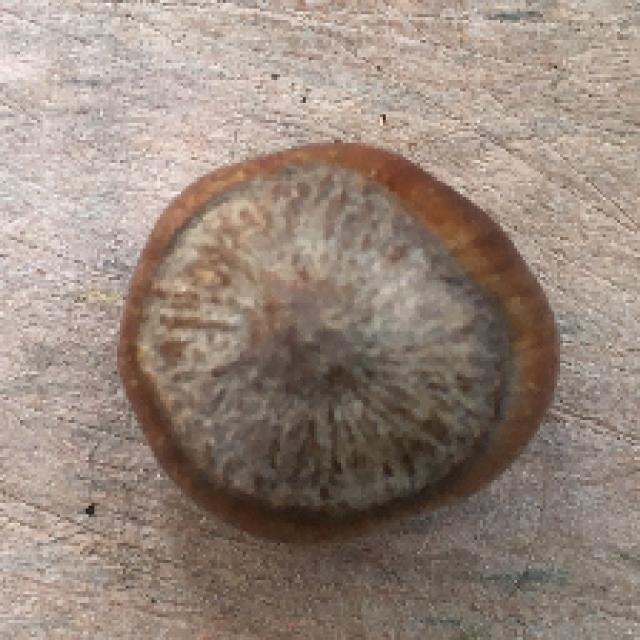qualityHazelnut: (110, 134, 554, 531)
